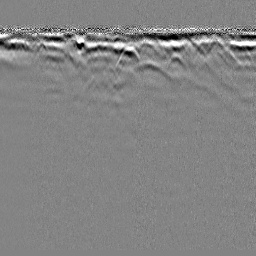cavity: (115, 43, 142, 67)
